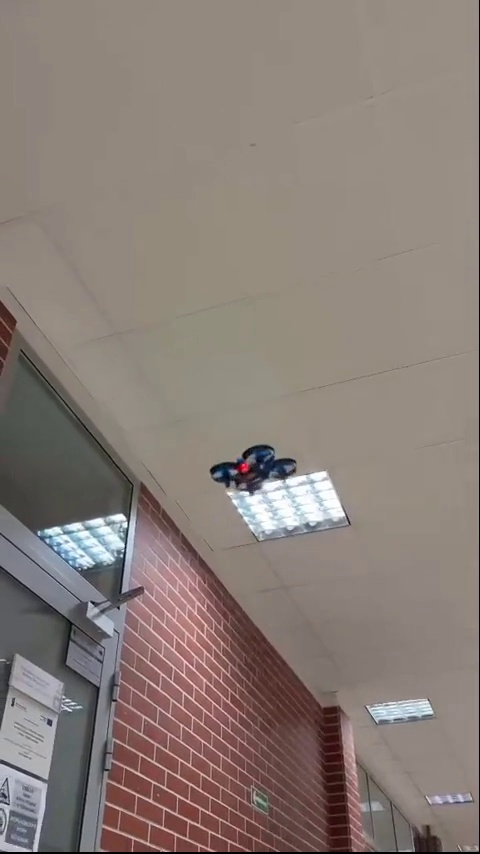drone: (209, 449, 297, 491)
